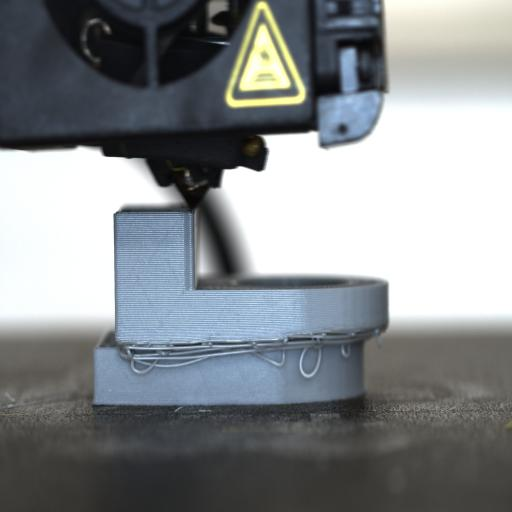layer_shift: (92, 324, 392, 358)
